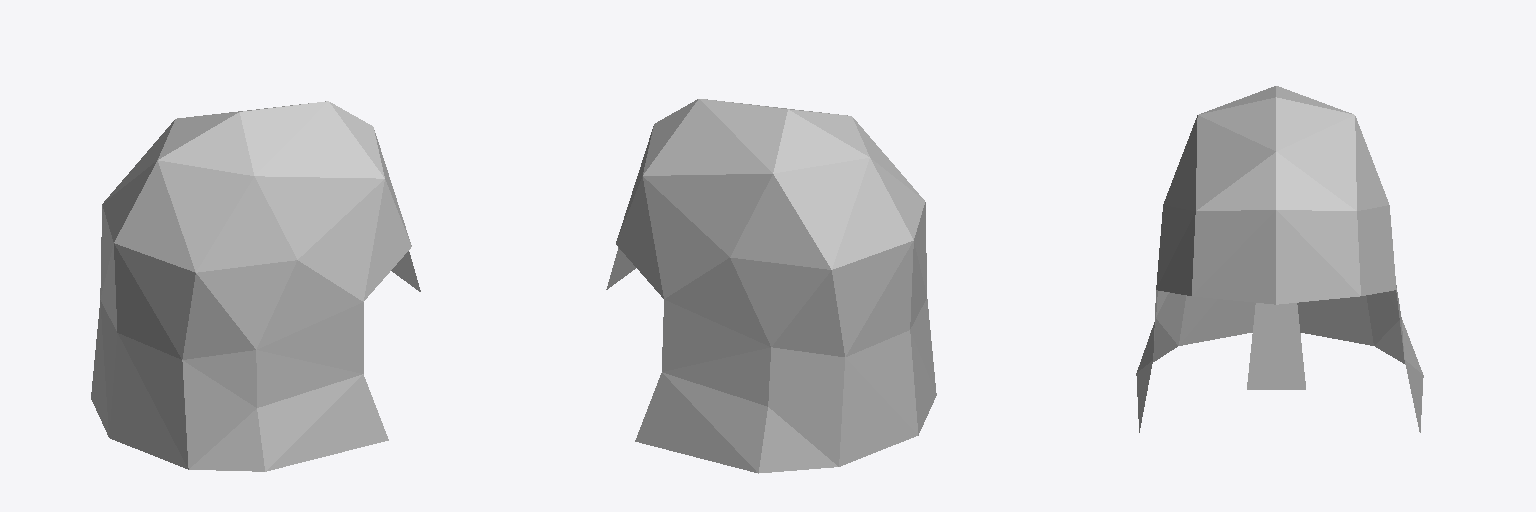
The model's file is armorhelmgreen.obj.
3 renders of one model, left to right at view 1: azimuth 30°, elevation 25°; view 2: azimuth 150°, elevation 25°; view 3: azimuth 270°, elevation 25°, orthographic.
Parts seen in each view (by area): view 1: armorhelmgreen; view 2: armorhelmgreen; view 3: armorhelmgreen.
Part boxes in pixels (left/top/right/bottom): armorhelmgreen: left=91, top=101, right=420, bottom=471; armorhelmgreen: left=606, top=99, right=936, bottom=473; armorhelmgreen: left=1136, top=86, right=1423, bottom=432.
Bounding box in the file's own units: 0.3709 × 0.3572 × 0.3103.